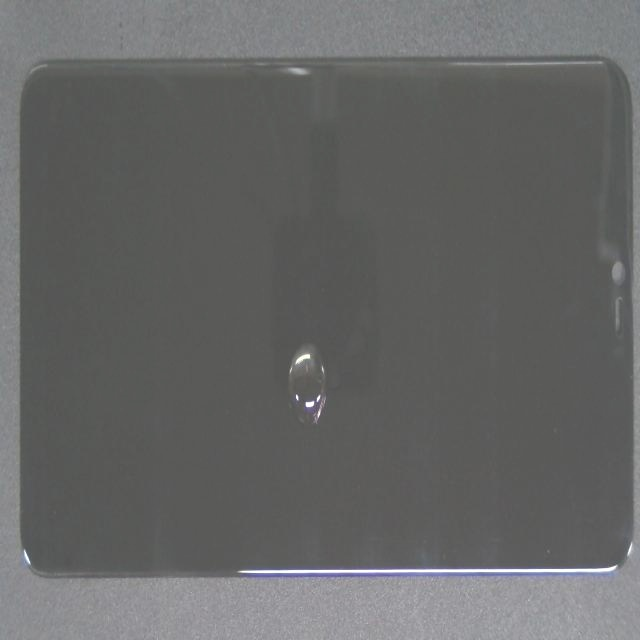oil: (153, 149, 436, 534)
